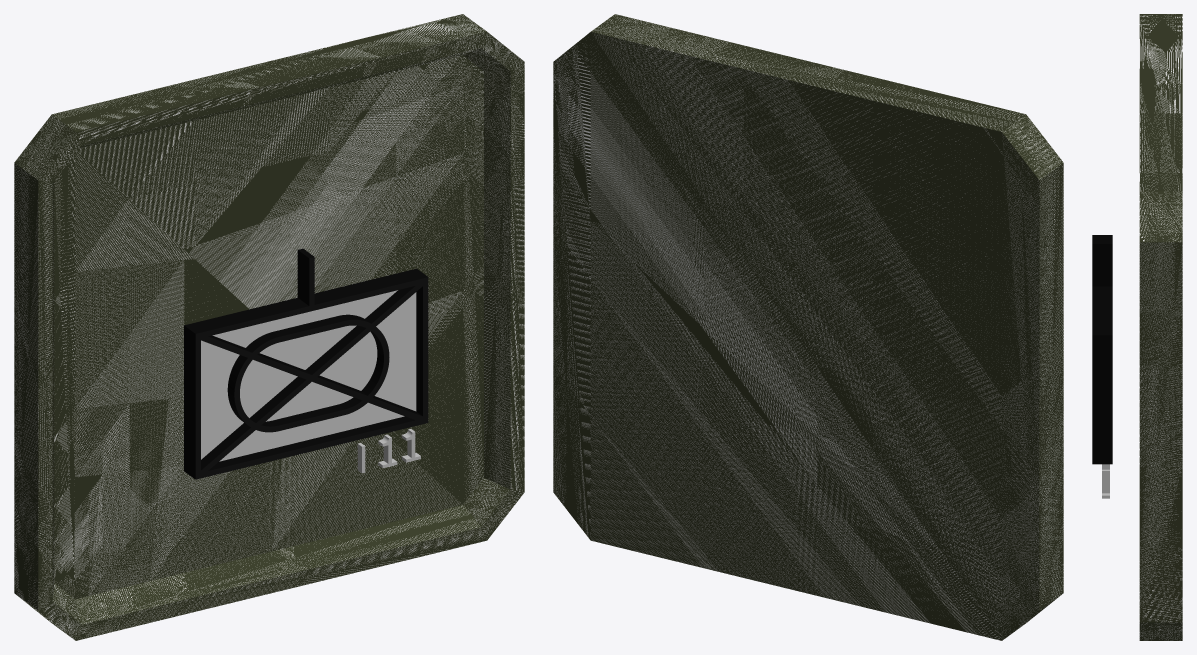
Rendered from ORBAT_-_Mechanized_Infrantry_Line.obj.
The picture shows the model from 3 angles, left to right: view 1: azimuth 30°, elevation 25°; view 2: azimuth 150°, elevation 25°; view 3: azimuth 270°, elevation 25°; orthographic projection. The views are drawn at different scales.
Parts seen in each view (by area): view 1: Button.001_ID13, Button_ID3, SM_ORBAT_-_Mechanized_Infrantry_Line_path1763-2.116; view 2: Button_ID3; view 3: Button_ID3, SM_ORBAT_-_Mechanized_Infrantry_Line_path1763-2.116.
Boxes of the visible parts, <box> form: Button.001_ID13: <box>52,48,510,624</box>; Button_ID3: <box>14,14,524,640</box>; SM_ORBAT_-_Mechanized_Infrantry_Line_path1763-2.116: <box>184,248,428,479</box>; Button_ID3: <box>553,14,1063,640</box>; Button_ID3: <box>1139,14,1182,640</box>; SM_ORBAT_-_Mechanized_Infrantry_Line_path1763-2.116: <box>1092,235,1112,498</box>.
Size of the model in its own units: 1 by 1 by 0.1819.
